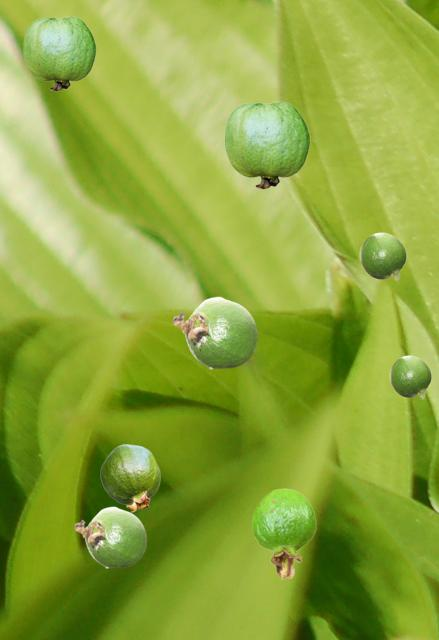guava: (224, 101, 309, 188), (172, 296, 257, 368), (252, 488, 315, 578), (23, 16, 95, 90), (74, 506, 146, 567), (100, 444, 159, 511), (359, 232, 405, 280), (389, 355, 430, 398)
